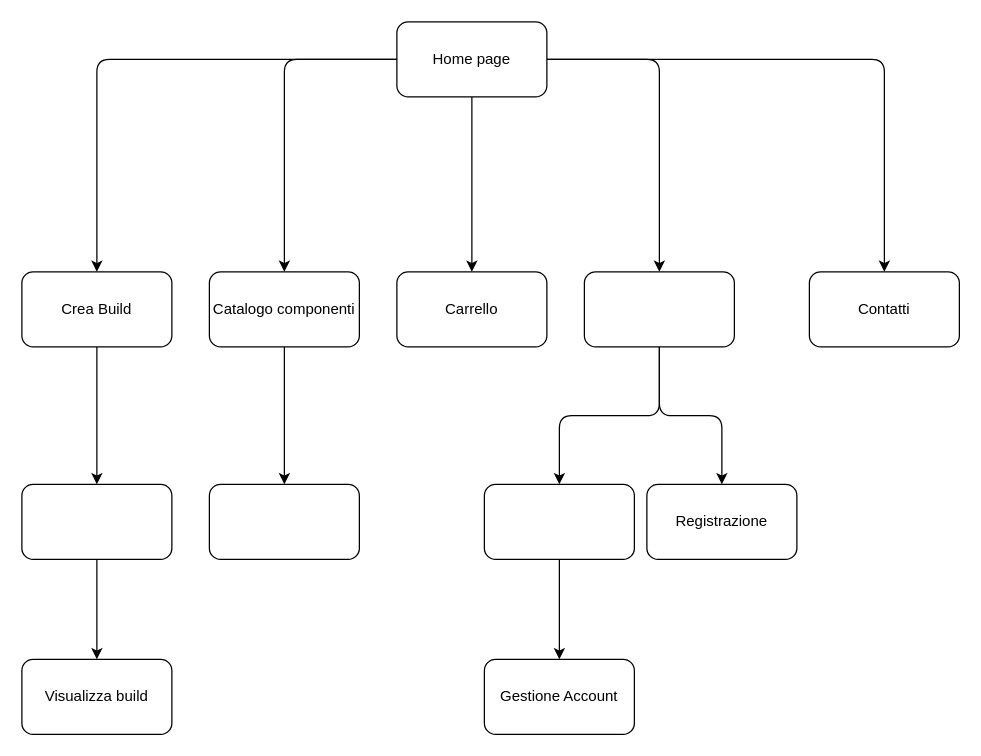
This 981x756 diagram has some shape labels left out. The shapes that lost their labels are listed below. From the top down, each one's centre as x and y in pixels, then its label:
At point 658,309: "Gestione profilo".
At point 96,521: "Catalogo build".
At point 283,521: "Visualizza componente".
At point 558,521: "Login".
